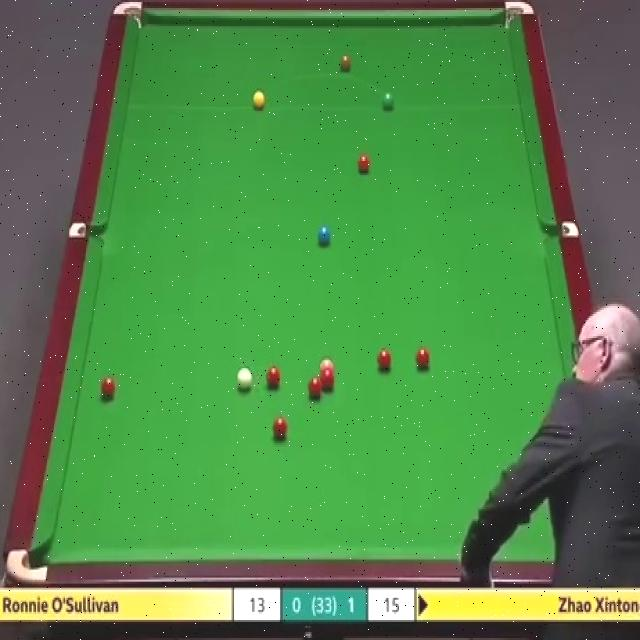blue-ball: (317, 226, 331, 244)
brown-ball: (339, 54, 351, 72)
green-ball: (381, 89, 394, 111)
pink-ball: (319, 356, 335, 374)
red-ball: (272, 416, 290, 442), (375, 349, 392, 372), (416, 347, 432, 370), (100, 376, 114, 402), (266, 366, 282, 388), (308, 378, 323, 400), (357, 154, 370, 175), (319, 372, 334, 389)
white-ball: (237, 369, 254, 394)
yellow-ball: (252, 90, 264, 109)
